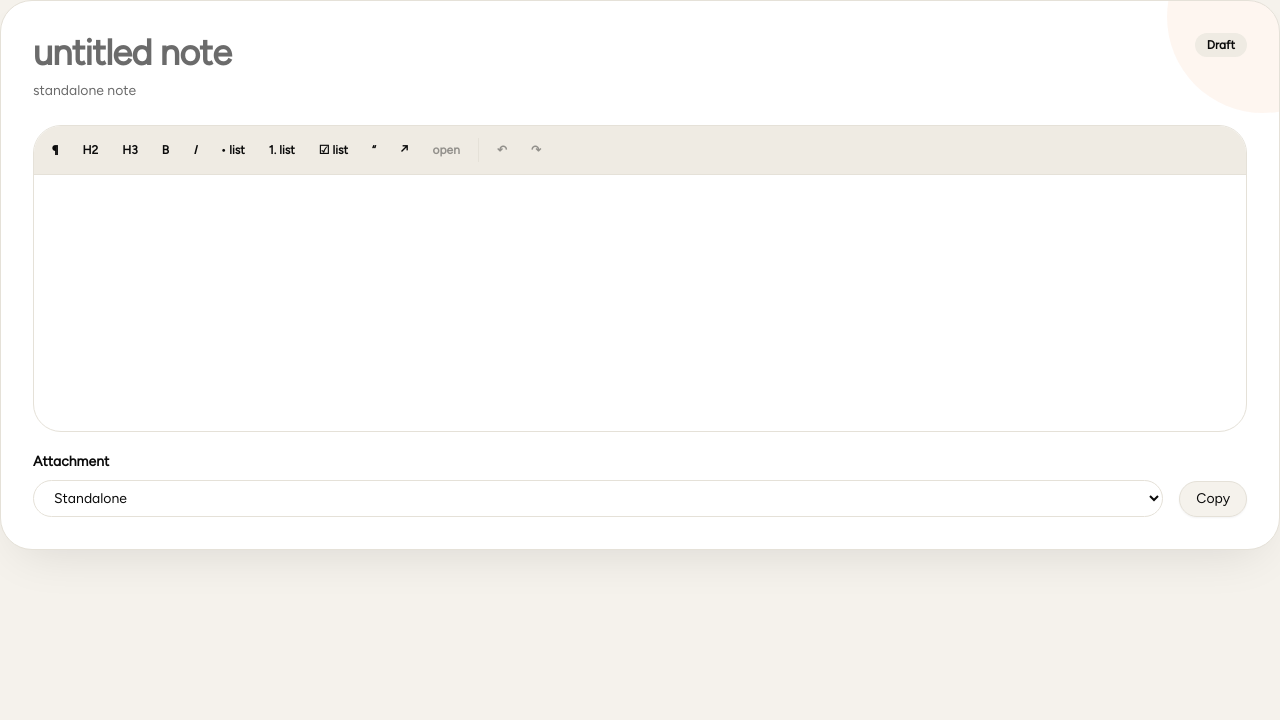
Scenario: NoteEditor › preserves edits and exposes Waiting after a rate limit
This screenshot has width=1280, height=720.
Type "kept locally" into the field named "Note title".
click(606, 53); type("kept locally")  # box [33, 33, 1179, 73]
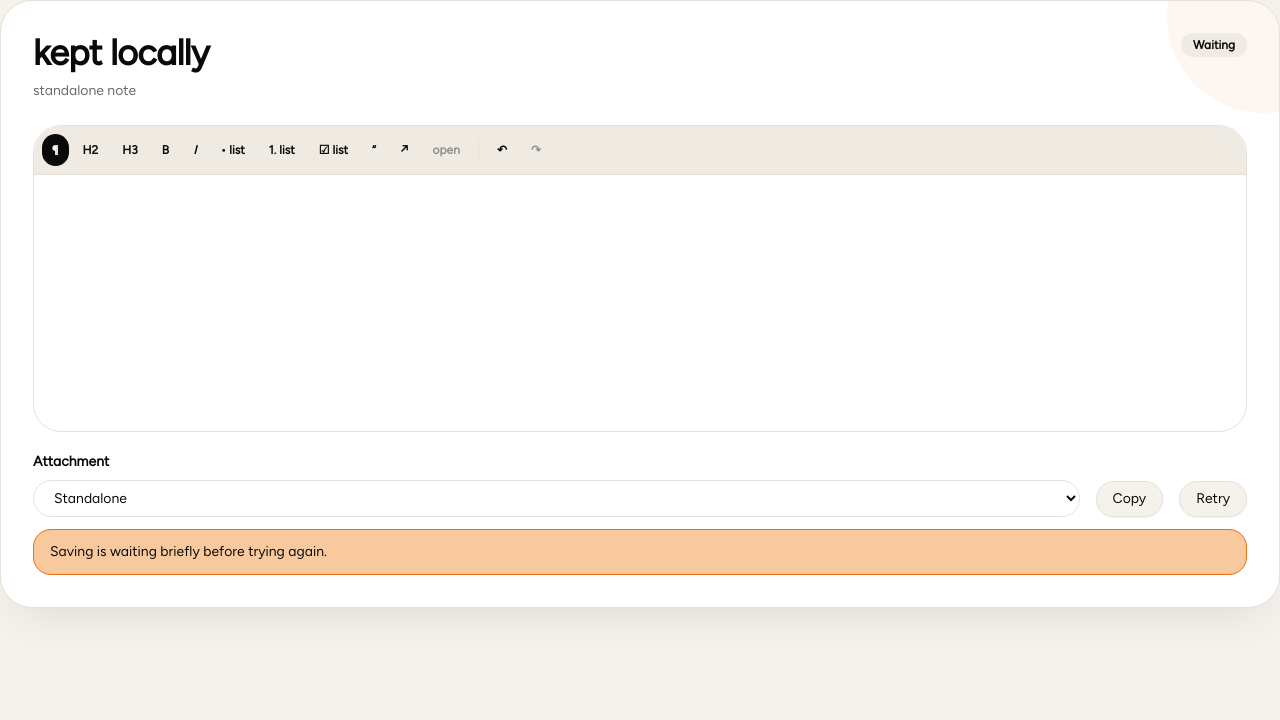
Now the message "Saving is waiting briefly before trying again." is shown, box [33, 529, 1247, 575]
Now the message "Waiting" is shown, box [1181, 33, 1247, 57]
